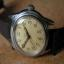watch: (7, 9, 55, 59)
